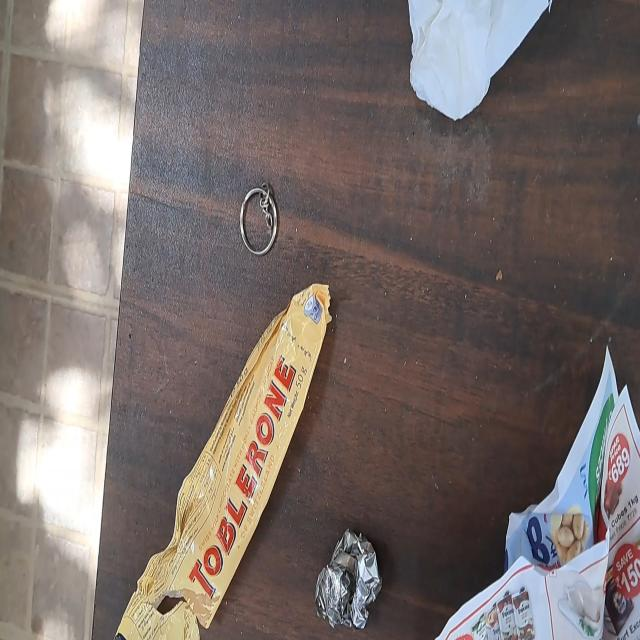Anorganik: (116, 284, 304, 630), (309, 533, 383, 628), (238, 187, 280, 257)
Organik: (430, 345, 640, 640)
